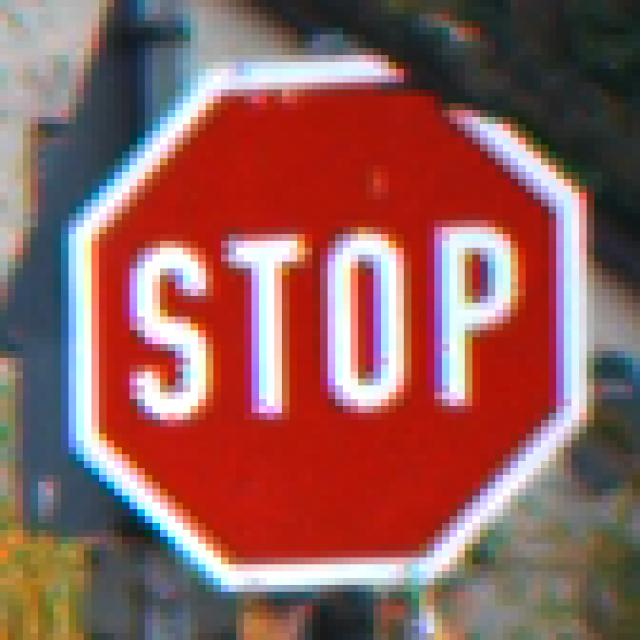STOP: (62, 56, 588, 586)
